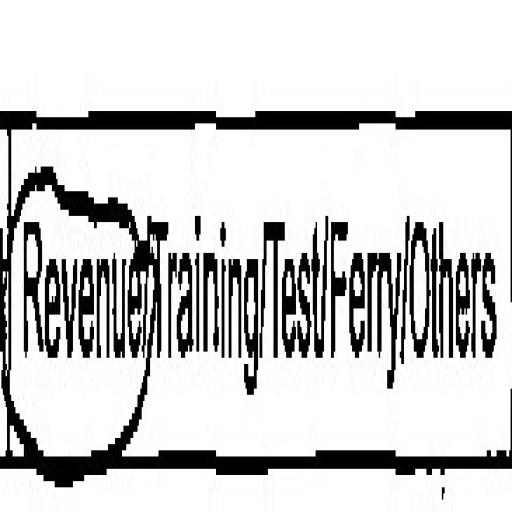check: (6, 21, 147, 512)
